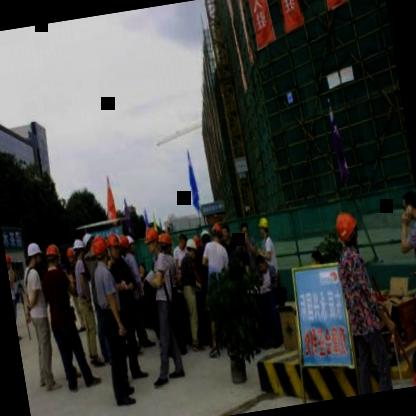helmet: (334, 209, 362, 251), (104, 230, 125, 262), (24, 238, 44, 270), (42, 241, 62, 271), (91, 234, 110, 265), (157, 230, 176, 260), (143, 224, 161, 254), (80, 230, 98, 256), (254, 215, 273, 239), (70, 235, 86, 263), (117, 233, 133, 260), (209, 218, 224, 240), (184, 237, 199, 259), (233, 235, 250, 254), (198, 226, 213, 246), (65, 245, 77, 269), (126, 235, 138, 256), (5, 254, 15, 274)
